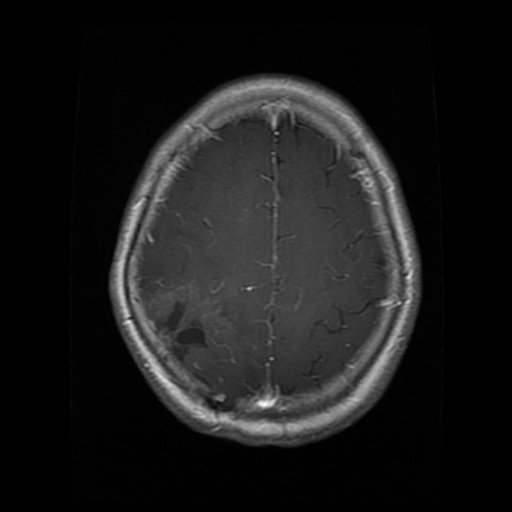glioma: (141, 281, 234, 377)
